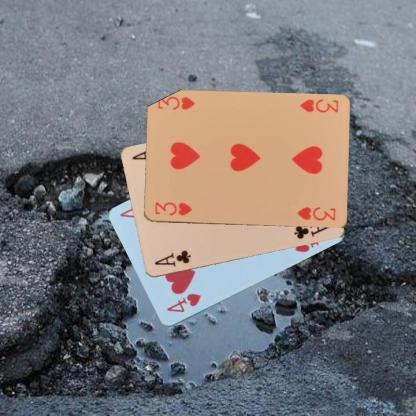3h: (297, 96, 339, 114), (152, 200, 193, 217)
4h: (164, 291, 202, 314)
Ac: (152, 248, 192, 268)
